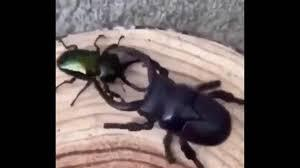Insects: (103, 42, 245, 168), (56, 31, 152, 110)
